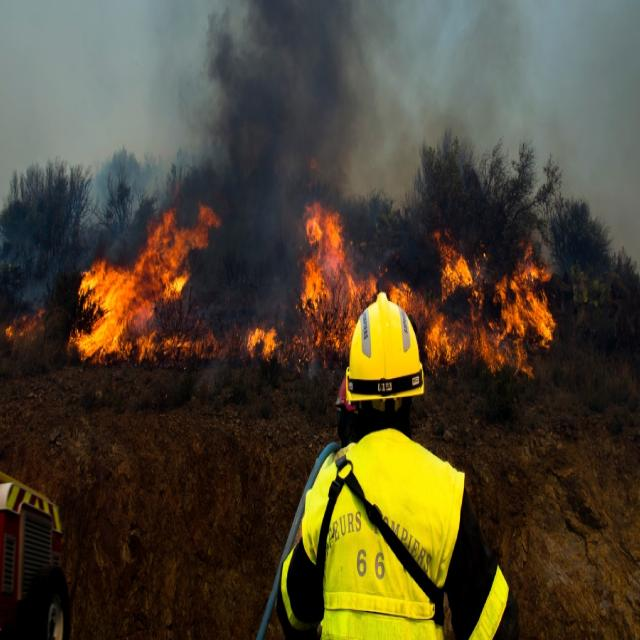Fire: (3, 188, 556, 382)
